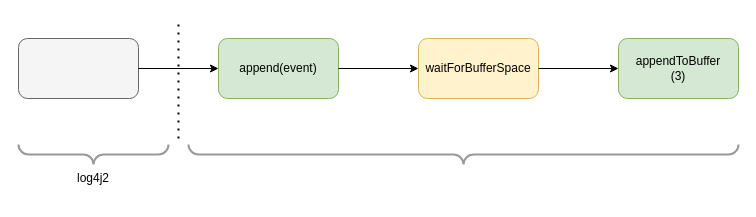
Image size: 756x217. Some labels were removed from this diagram. Here are the shapes that lost their labels. From the top down, the centre of each, then its label:
pixel 78 68: log.info(x)
pixel 463 154: more-log4j2 AsyncHttpAppender
